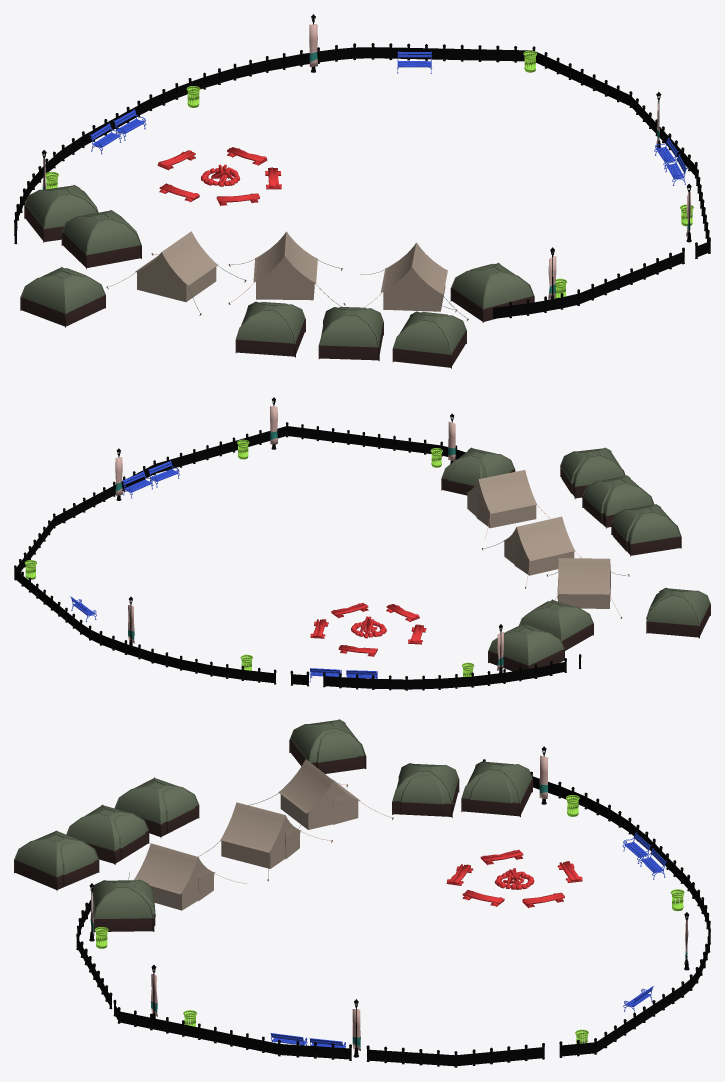
Rendered from obszar_treningowy.fbx.
3 renders of one model, top to bottom at view 1: azimuth 30°, elevation 25°; view 2: azimuth 150°, elevation 25°; view 3: azimuth 270°, elevation 25°, orthographic. The views are drawn at different scales.
Parts seen in each view (by area): view 1: namiot2.014; view 2: namiot2.014; view 3: namiot2.014.
Part boxes in pixels (box(x1,y1,x2,y2)): namiot2.014: box(14, 14, 710, 368); namiot2.014: box(14, 397, 710, 690); namiot2.014: box(14, 719, 710, 1067).
Size of the model in its own units: 4187 by 370 by 3807.
